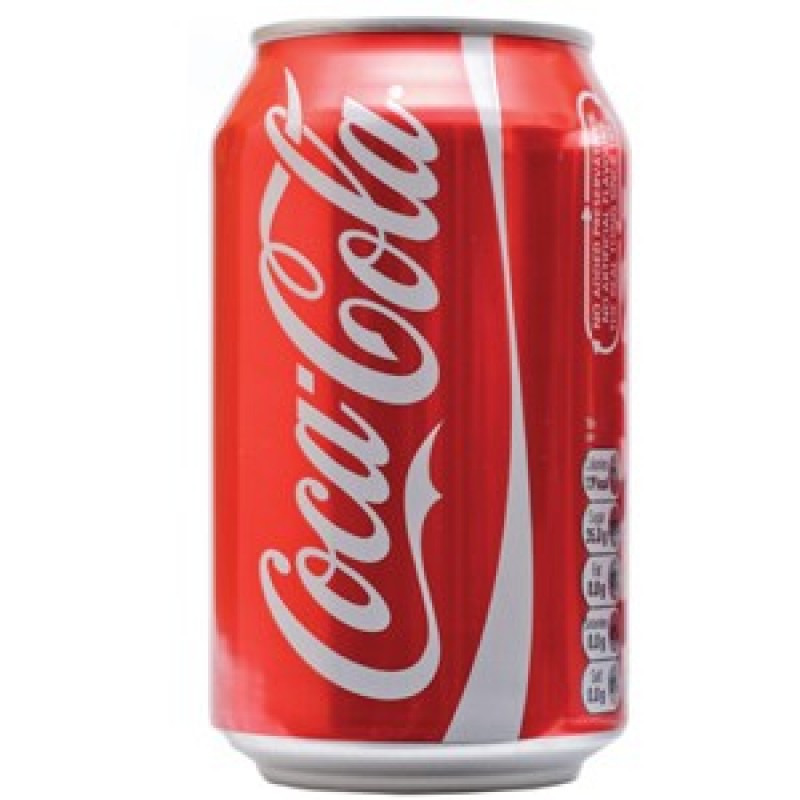coke: (207, 21, 626, 789)
